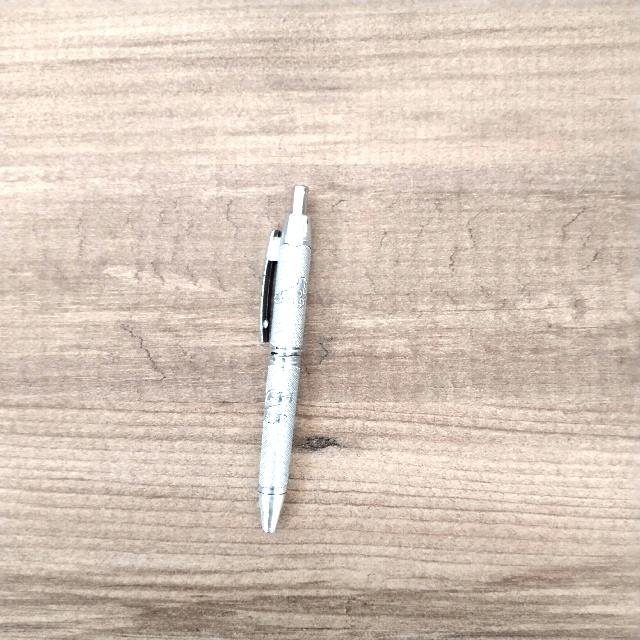signature pen: (259, 185, 310, 532)
